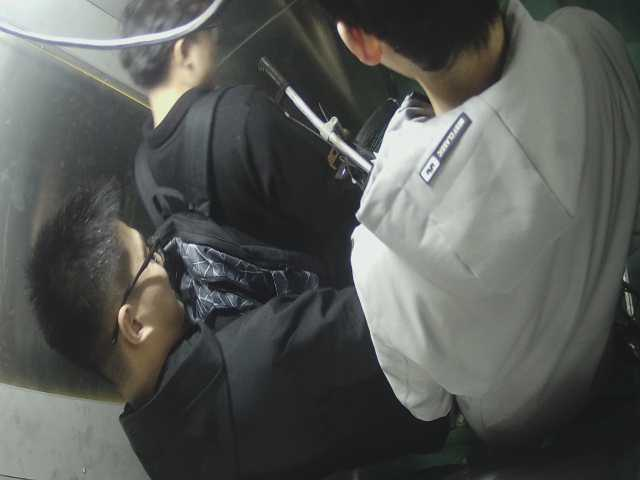bag: (139, 198, 328, 334)
bicycle: (247, 47, 395, 201)
person: (26, 183, 469, 478), (334, 14, 631, 436), (117, 1, 363, 273)
